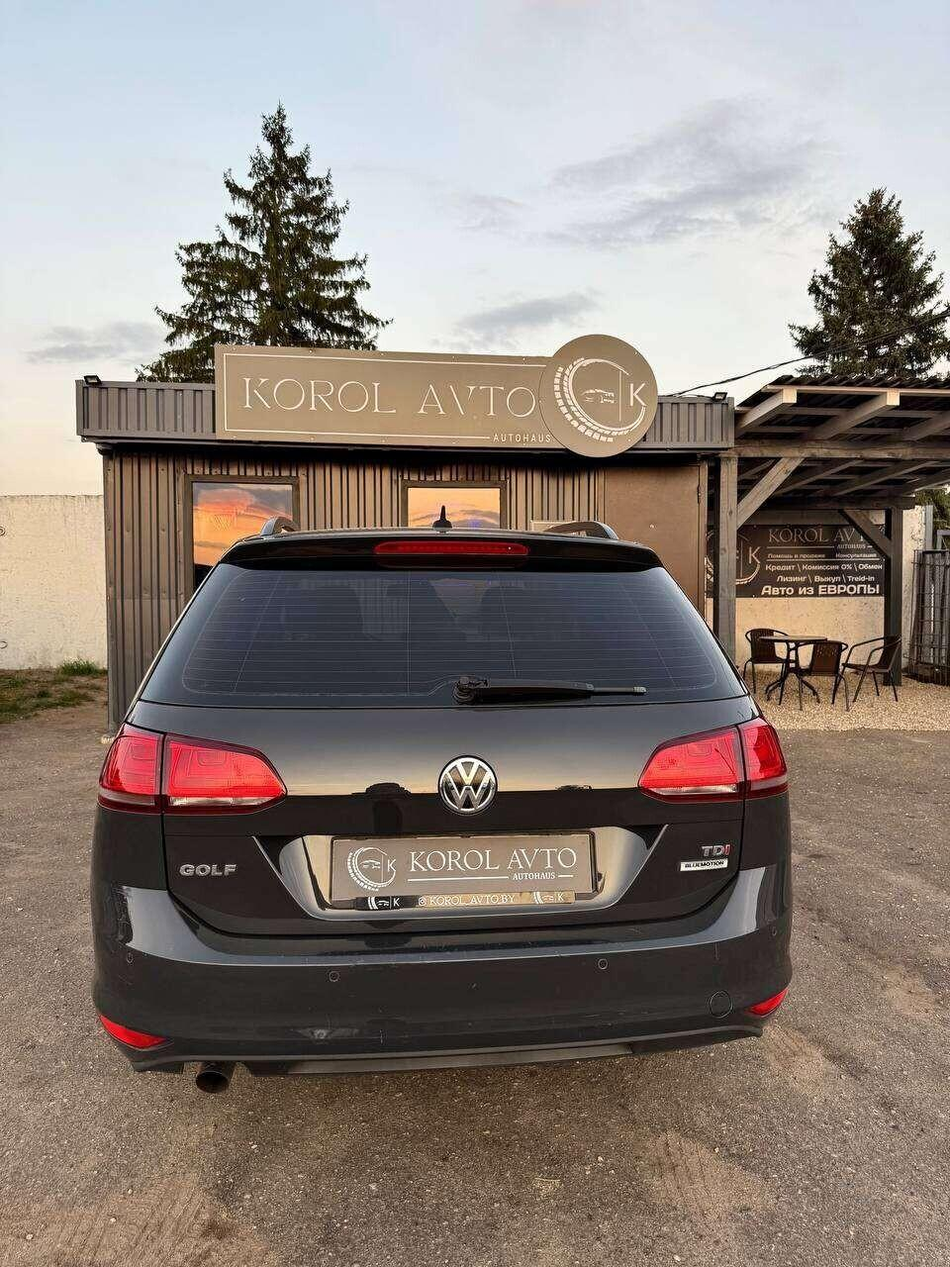Golf_2012-2017: (79, 525, 806, 1085)
